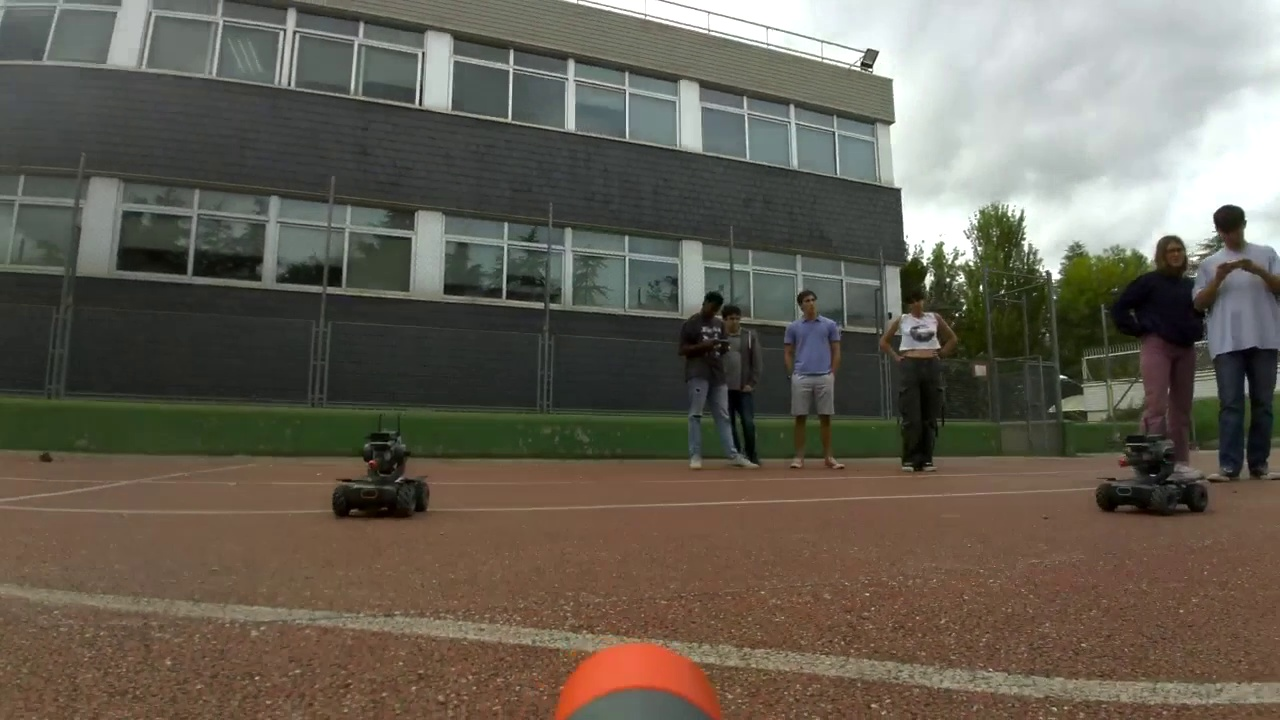robot: (1097, 435, 1209, 518), (334, 430, 431, 521)
